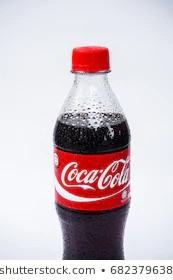coke-bottle-700ml: (52, 41, 138, 259)
